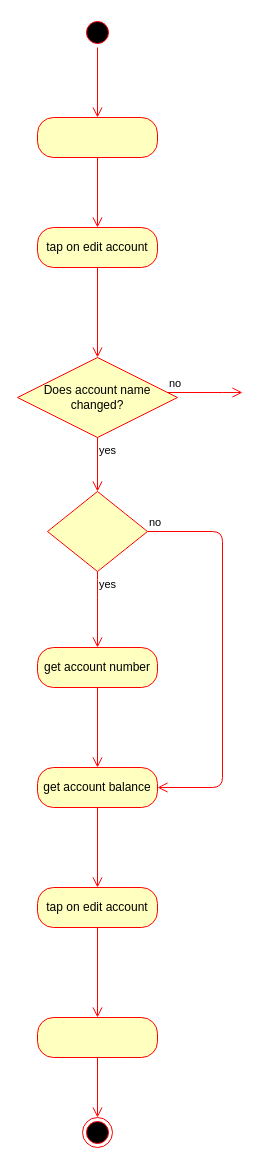
Some shapes in this 270 by 1165 pixel diagram are drawn without their labels. Each missing label, with the centre of its shape:
display "account edited successfully": point (97, 1037)
get selected financial account: point (97, 137)
is it real bank account?: point (97, 531)
